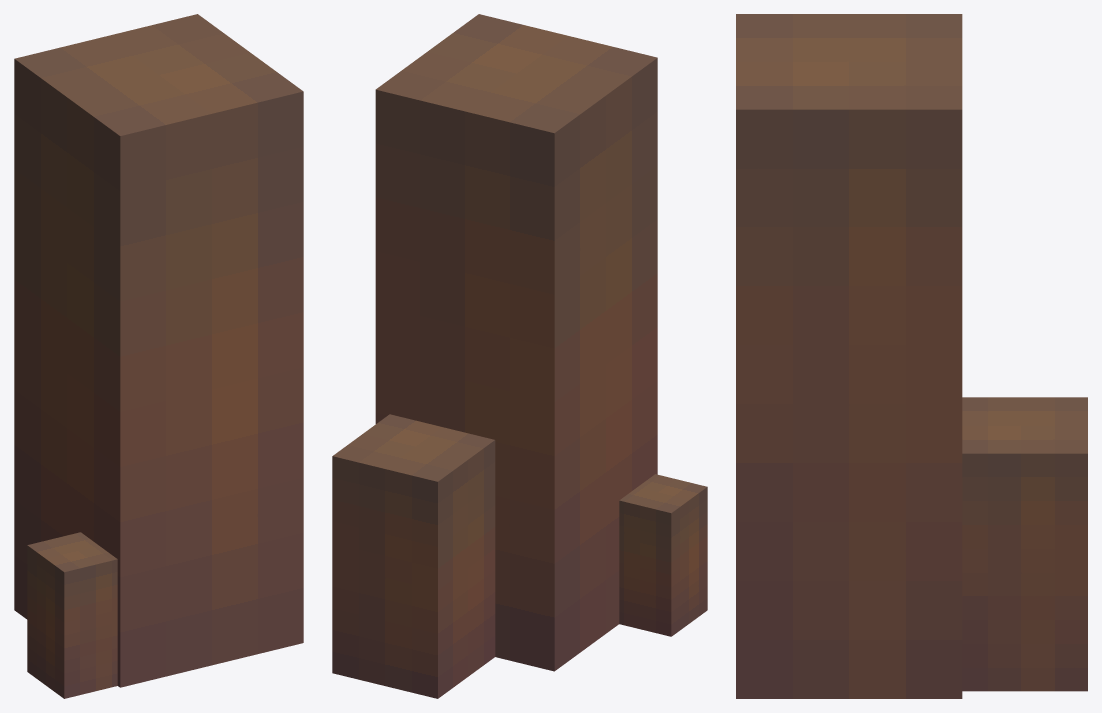
Rendered from pentlandite_crystal_three.obj.
3 views of the same model, side by side, from view 1: azimuth 30°, elevation 25°; view 2: azimuth 150°, elevation 25°; view 3: azimuth 270°, elevation 25° (orthographic). The views are drawn at different scales.
Parts seen in each view (by area): view 1: Crystal5_Cube.008; view 2: Crystal5_Cube.008; view 3: Crystal5_Cube.008.
Part boxes in pixels (left/top/right/bottom): Crystal5_Cube.008: left=14, top=14, right=303, bottom=698; Crystal5_Cube.008: left=332, top=14, right=707, bottom=698; Crystal5_Cube.008: left=736, top=14, right=1087, bottom=698.
Bounding box in the file's own units: 0.1959 × 0.4361 × 0.2358.
